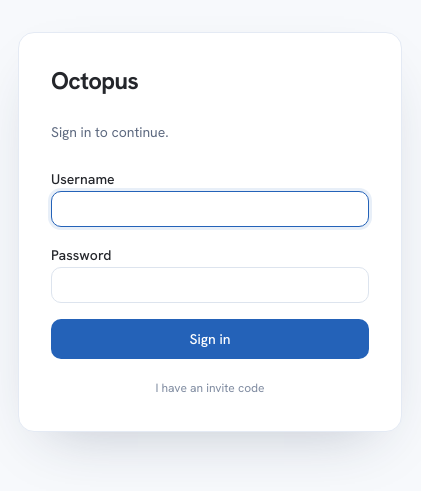
Test: SignIn › shows the server's reason when sign-in is refused
Expected: the field labelled "Username" is shown, [51,191,369,227]
What coordinates should you click on to do the following:
click the button "Sign in"
I would click on:
 (210, 339)
Its box is [51,319,369,359].
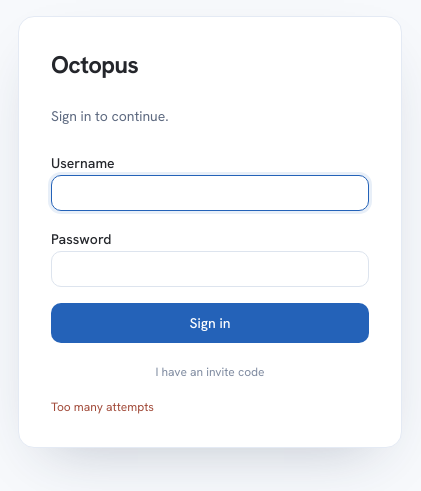
Now the text "Too many attempts" is shown, box [51,399,154,415]
